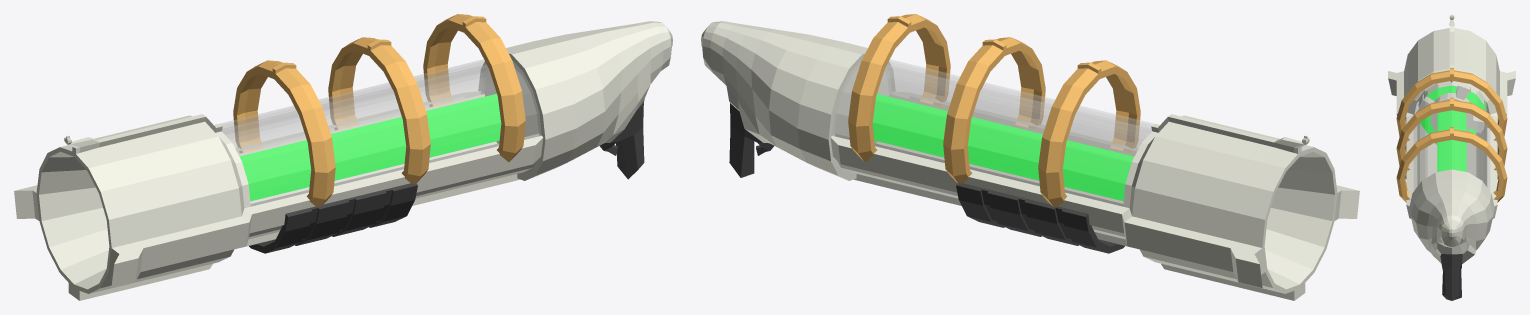
Rendered from Gun_v2.fbx.
The picture shows the model from 3 angles, left to right: view 1: azimuth 30°, elevation 25°; view 2: azimuth 150°, elevation 25°; view 3: azimuth 270°, elevation 25°; orthographic projection. The views are drawn at different scales.
Visible parts, largest first — view 1: Gun, Energy_core; view 2: Gun, Energy_core; view 3: Gun, Energy_core.
Boxes of the visible parts, x1,y1,x2,y2 form: Gun: (14, 14, 672, 300); Energy_core: (240, 94, 501, 200); Gun: (701, 14, 1359, 300); Energy_core: (872, 94, 1133, 200); Gun: (1388, 14, 1515, 300); Energy_core: (1417, 85, 1486, 171).
Bounding box in the file's own units: 400 × 123 × 114.
